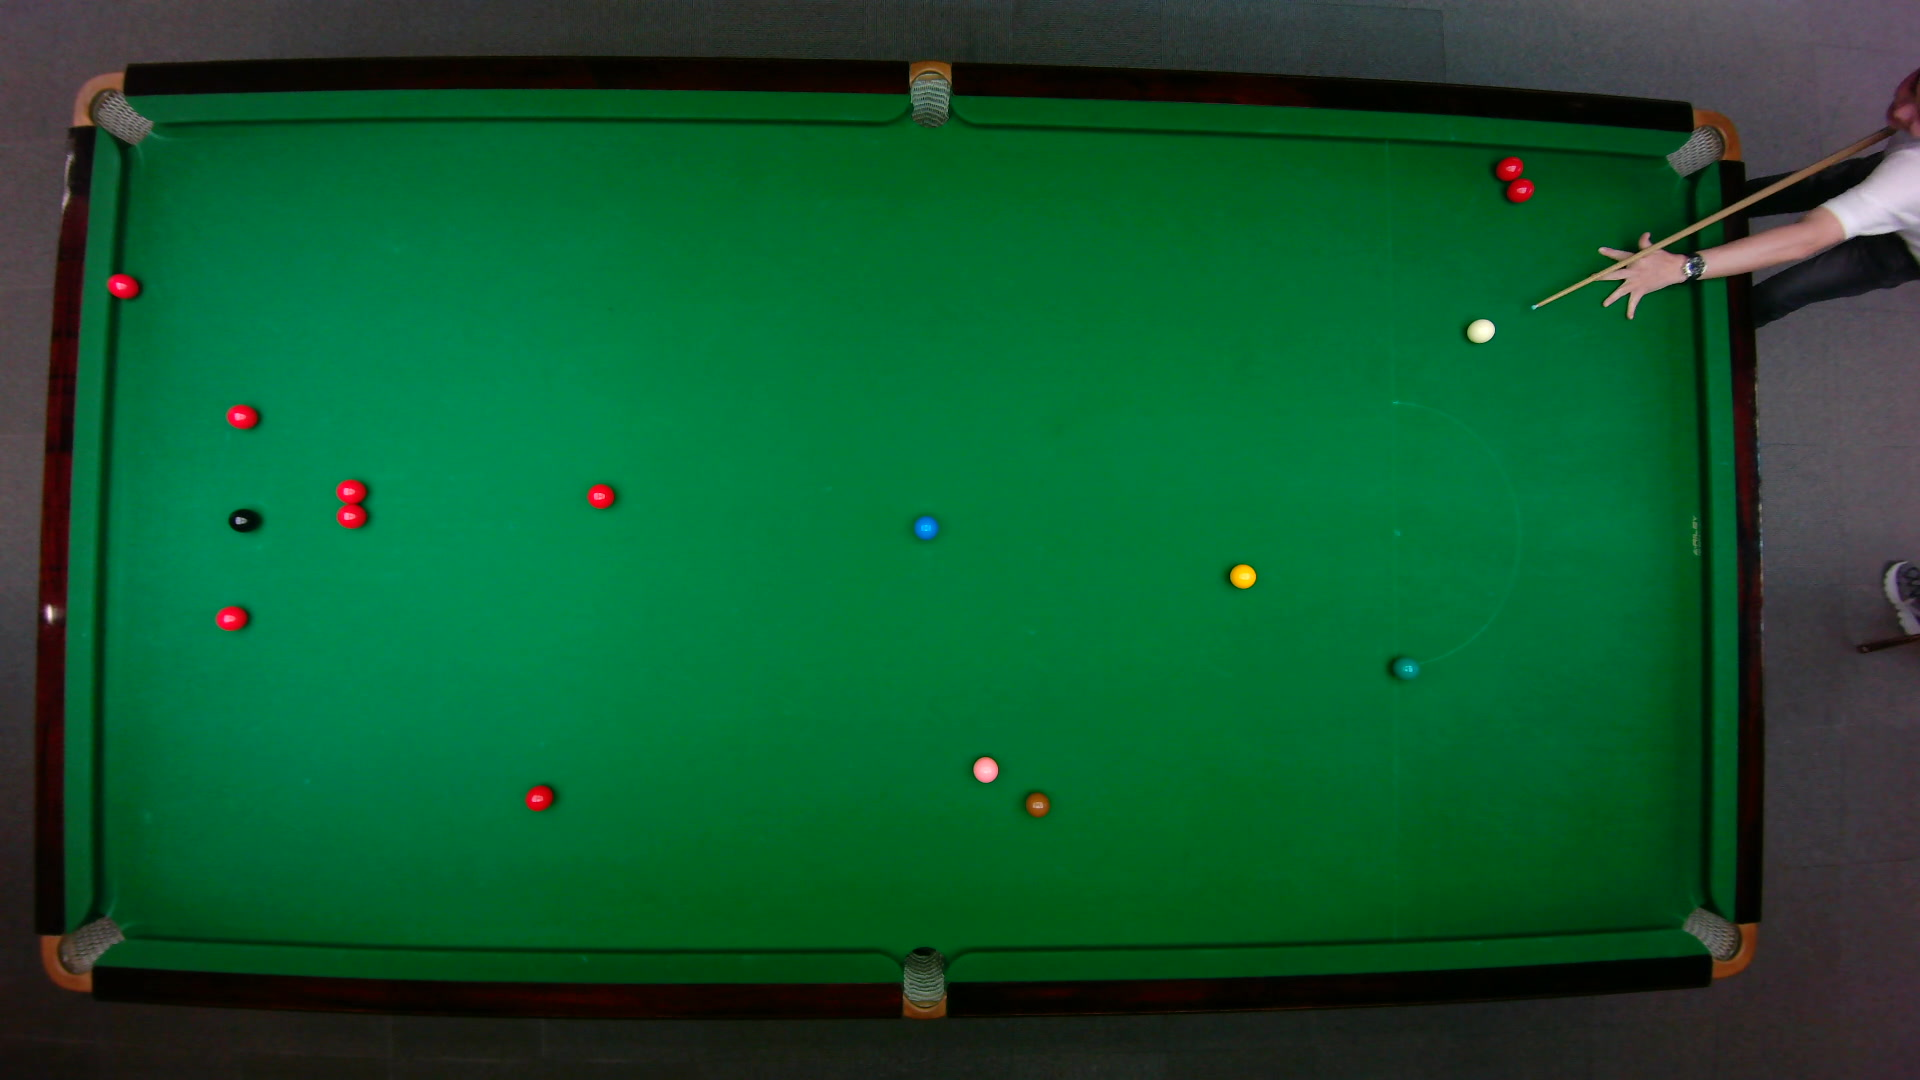bag: (38, 914, 127, 993), (71, 70, 153, 146), (1680, 905, 1758, 978), (1664, 108, 1741, 179), (902, 945, 945, 1021), (909, 58, 952, 129)
black: (227, 506, 258, 533)
blue: (913, 516, 940, 541)
brown: (1025, 791, 1051, 818)
cue: (1530, 124, 1890, 311)
green: (1391, 655, 1420, 680)
pink: (971, 756, 1000, 785)
red: (105, 272, 140, 301), (224, 404, 258, 430), (215, 605, 249, 632), (524, 783, 554, 812), (585, 483, 616, 510), (1505, 177, 1536, 203), (335, 477, 367, 504), (1494, 156, 1524, 182), (335, 504, 367, 529)
white: (1465, 318, 1495, 345)
yellow: (1228, 563, 1257, 589)
zone: (1390, 400, 1520, 669)
